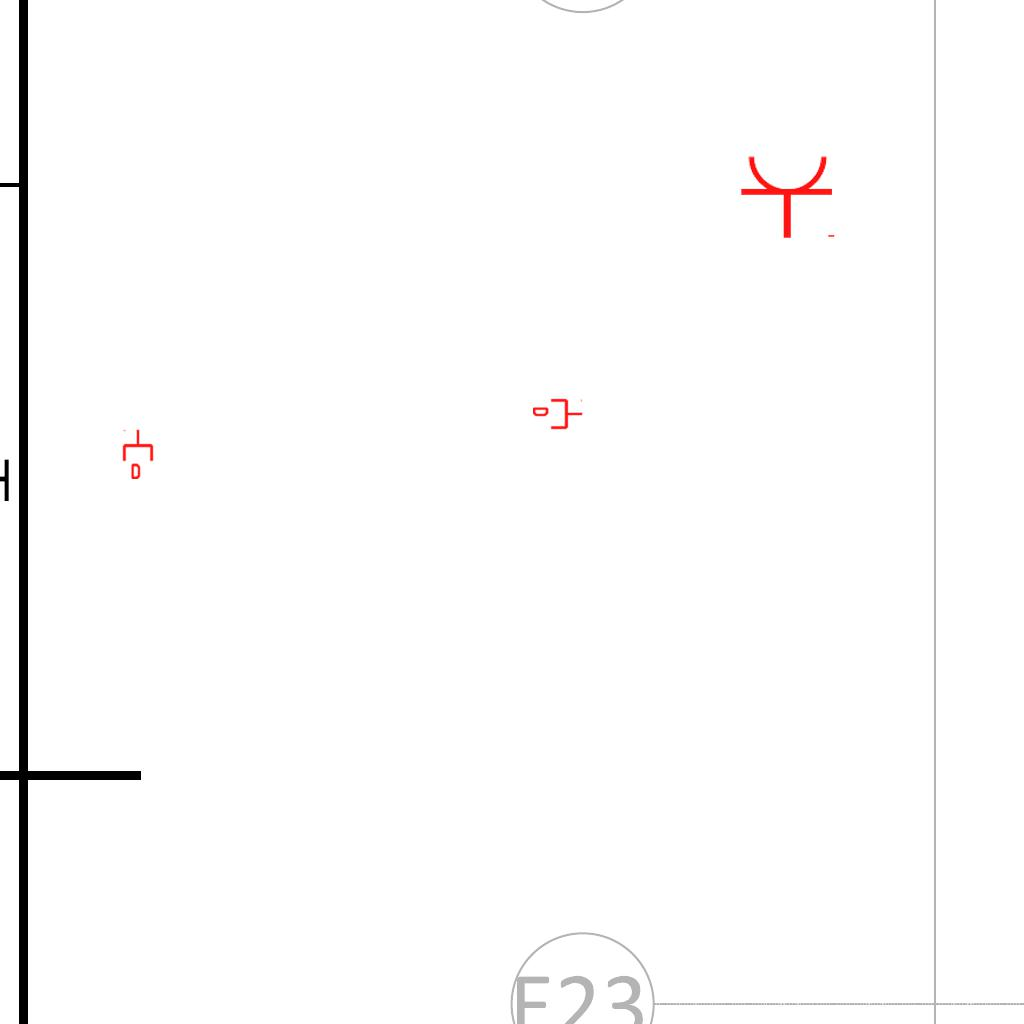Datenanschluss_einfach: (533, 397, 583, 431), (121, 429, 155, 479)
Schukosteckdose_einfach: (739, 153, 839, 240)
